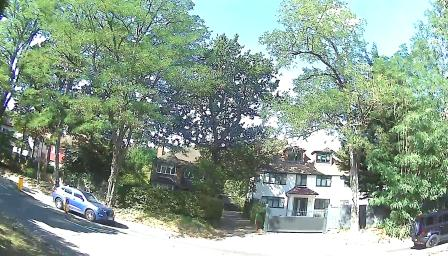Cars: (53, 180, 120, 226)
